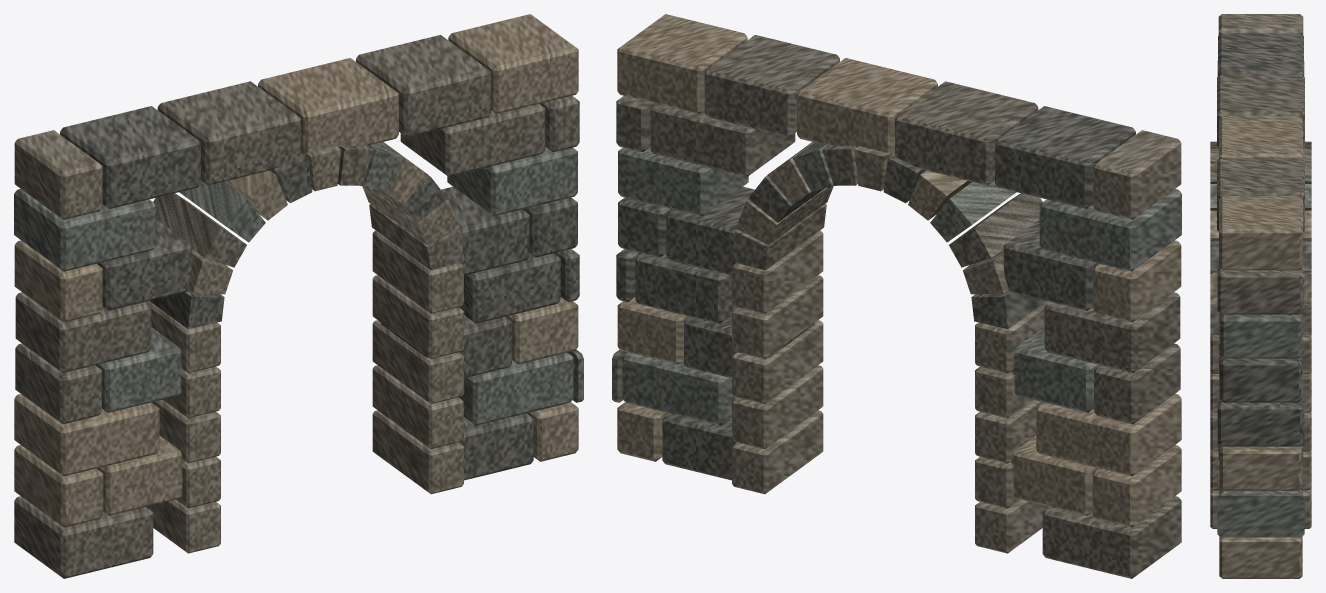
File: wall_arch_4m.glb
The picture shows the model from 3 angles, left to right: view 1: azimuth 30°, elevation 25°; view 2: azimuth 150°, elevation 25°; view 3: azimuth 270°, elevation 25°; orthographic projection. The views are drawn at different scales.
Visible parts, largest first — view 1: Wall_Arch_4m_025, Wall_Arch_4m_024, Wall_Arch_4m_026, Wall_Arch_4m_027, Wall_Arch_4m_028, Wall_Arch_4m_007, Wall_Arch_4m_020, Wall_Arch_4m_000, Wall_Arch_4m_014, Wall_Arch_4m_021, Wall_Arch_4m_023, Wall_Arch_4m_019 (+39 smaller); view 2: Wall_Arch_4m_025, Wall_Arch_4m_024, Wall_Arch_4m_026, Wall_Arch_4m_027, Wall_Arch_4m_028, Wall_Arch_4m_007, Wall_Arch_4m_020, Wall_Arch_4m_000, Wall_Arch_4m_014, Wall_Arch_4m_021, Wall_Arch_4m_023, Wall_Arch_4m_019 (+39 smaller); view 3: Wall_Arch_4m_028, Wall_Arch_4m_022, Wall_Arch_4m_013, Wall_Arch_4m_006, Wall_Arch_4m_025, Wall_Arch_4m_009, Wall_Arch_4m_016, Wall_Arch_4m_019, Wall_Arch_4m_024, Wall_Arch_4m_027, Wall_Arch_4m_026, Wall_Arch_4m_002 (+15 smaller).
Part boxes in pixels (<box>): Wall_Arch_4m_025: <box>157,81,300,185</box>; Wall_Arch_4m_024: <box>60,106,200,208</box>; Wall_Arch_4m_026: <box>258,58,398,156</box>; Wall_Arch_4m_027: <box>356,35,491,137</box>; Wall_Arch_4m_028: <box>448,14,578,113</box>; Wall_Arch_4m_007: <box>14,394,159,476</box>; Wall_Arch_4m_020: <box>14,189,156,271</box>; Wall_Arch_4m_000: <box>14,496,153,578</box>; Wall_Arch_4m_014: <box>15,292,151,372</box>; Wall_Arch_4m_021: <box>400,104,545,176</box>; Wall_Arch_4m_023: <box>14,130,102,219</box>; Wall_Arch_4m_019: <box>447,147,577,216</box>; Wall_Arch_4m_025: <box>895,81,1038,185</box>; Wall_Arch_4m_024: <box>995,106,1135,208</box>; Wall_Arch_4m_026: <box>797,58,937,156</box>; Wall_Arch_4m_027: <box>704,35,839,137</box>; Wall_Arch_4m_028: <box>617,14,747,113</box>; Wall_Arch_4m_007: <box>1036,394,1181,476</box>; Wall_Arch_4m_020: <box>1039,189,1181,271</box>; Wall_Arch_4m_000: <box>1042,496,1181,578</box>; Wall_Arch_4m_014: <box>1044,292,1180,372</box>; Wall_Arch_4m_021: <box>650,104,795,176</box>; Wall_Arch_4m_023: <box>1093,130,1181,219</box>; Wall_Arch_4m_019: <box>618,147,748,216</box>; Wall_Arch_4m_028: <box>1219,196,1302,270</box>; Wall_Arch_4m_022: <box>1217,265,1304,314</box>; Wall_Arch_4m_013: <box>1217,402,1304,446</box>; Wall_Arch_4m_006: <box>1217,493,1304,537</box>; Wall_Arch_4m_025: <box>1217,74,1304,146</box>; Wall_Arch_4m_009: <box>1219,446,1302,490</box>; Wall_Arch_4m_016: <box>1220,348,1301,402</box>; Wall_Arch_4m_019: <box>1220,314,1301,358</box>; Wall_Arch_4m_024: <box>1218,33,1303,75</box>; Wall_Arch_4m_027: <box>1217,157,1304,231</box>; Wall_Arch_4m_026: <box>1219,116,1302,158</box>; Wall_Arch_4m_002: <box>1219,536,1302,578</box>.
Bounding box in the file's own units: 3.99 × 2.98 × 0.78.
5 materials, 5 textured.
